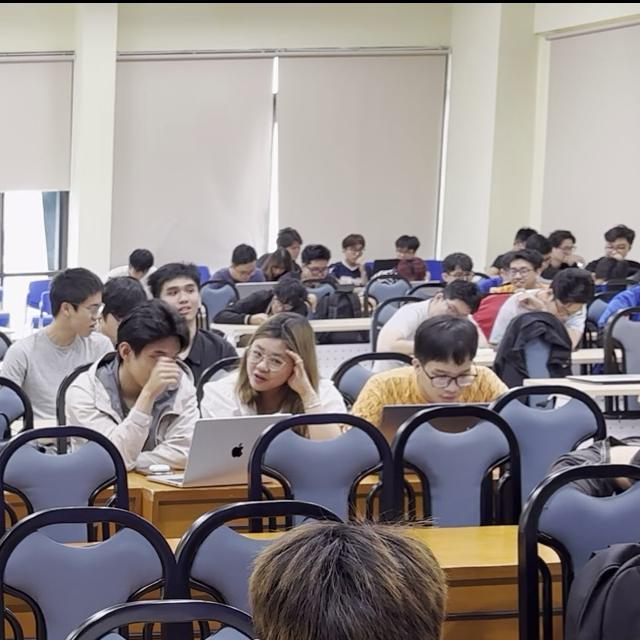Looking away: (417, 359, 474, 407), (62, 293, 105, 340)
Looking forward: (243, 338, 296, 393), (159, 276, 204, 324)
